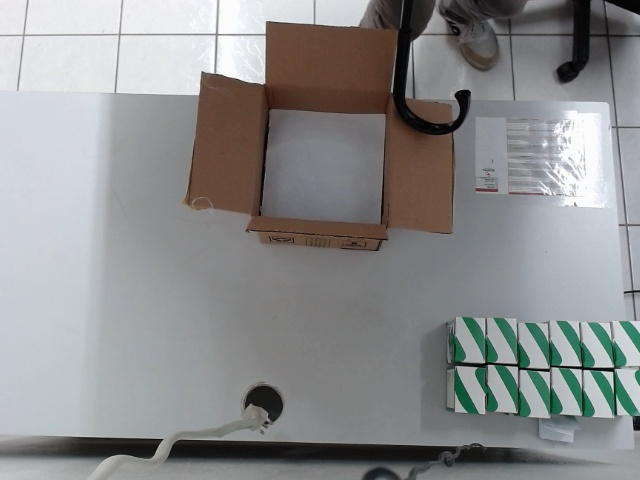caixa_principal: (184, 20, 462, 259)
